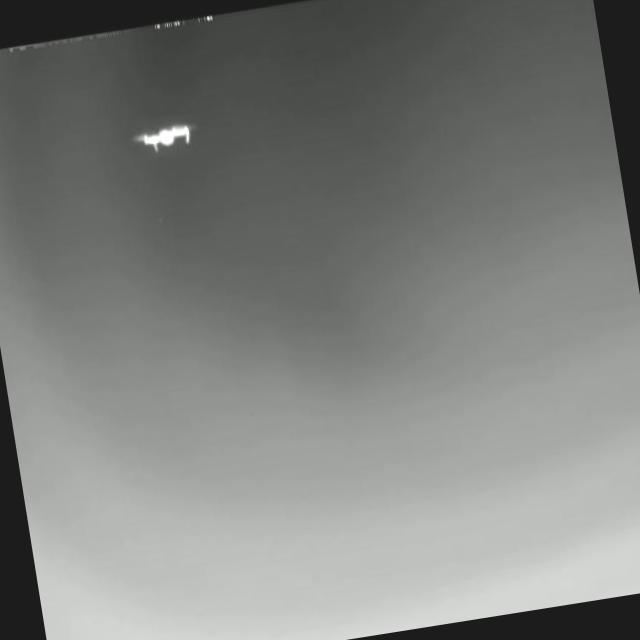DRONE: (132, 121, 194, 153)
